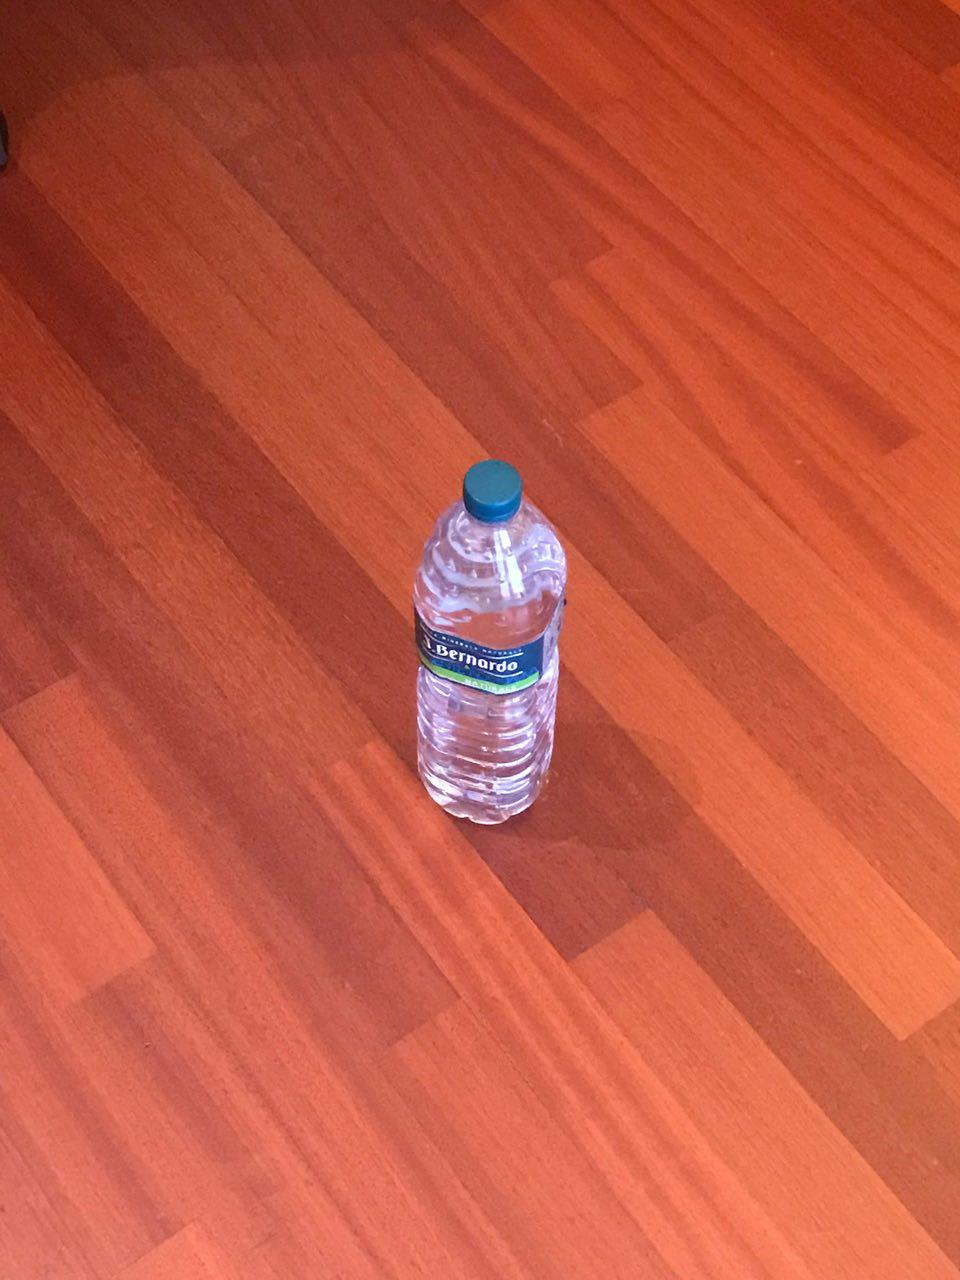san_bernardo: (410, 457, 569, 828)
